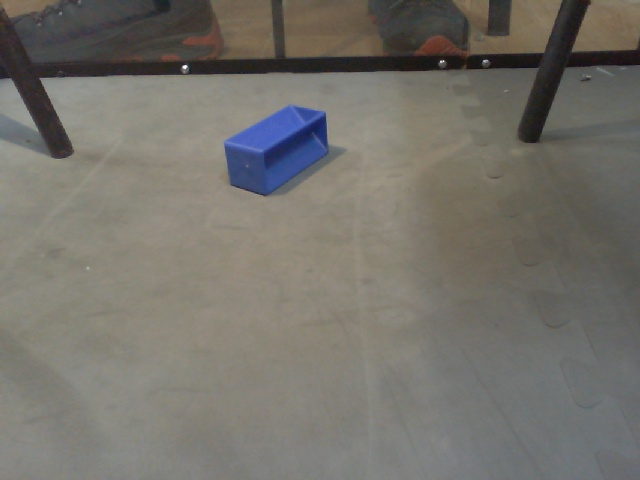BlueSample: (220, 102, 332, 198)
